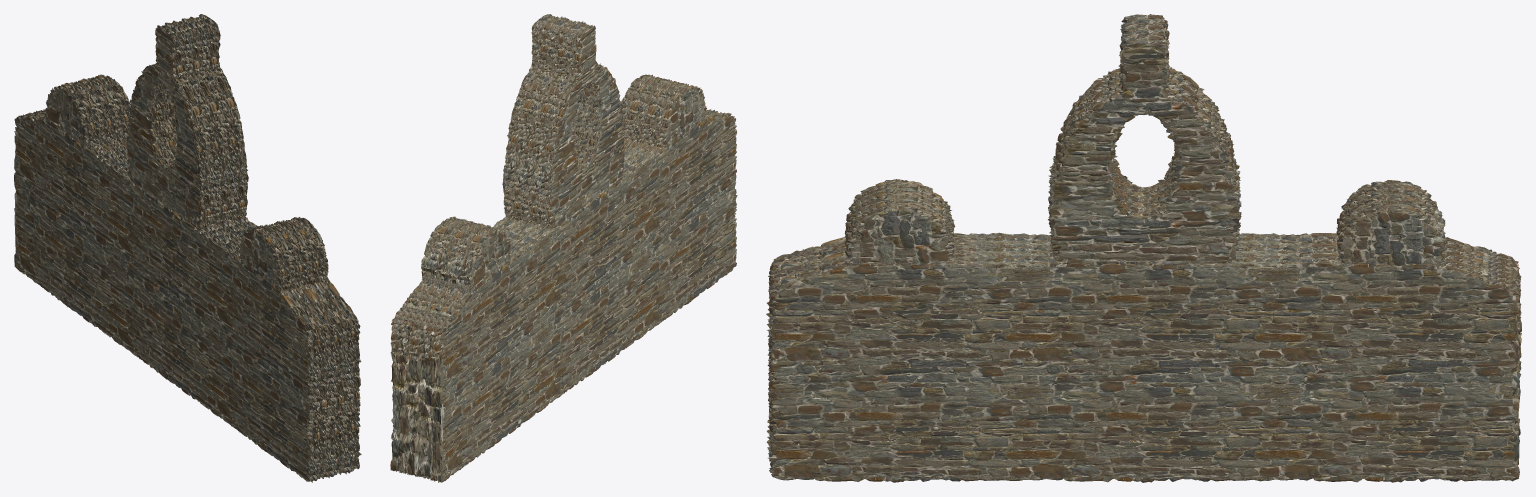
Rendered from Altar_3.glb.
3 views of the same model, side by side, from view 1: azimuth 30°, elevation 25°; view 2: azimuth 150°, elevation 25°; view 3: azimuth 270°, elevation 25° (orthographic). The views are drawn at different scales.
Parts seen in each view (by area): view 1: Altar.003; view 2: Altar.003; view 3: Altar.003.
Part boxes in pixels (x1=…): Altar.003: x1=14, y1=14, x2=361, y2=482; Altar.003: x1=390, y1=14, x2=737, y2=482; Altar.003: x1=766, y1=14, x2=1521, y2=482.
Bounding box in the file's own units: 2.78 × 17.91 × 27.82.
1 material, 1 textured.
